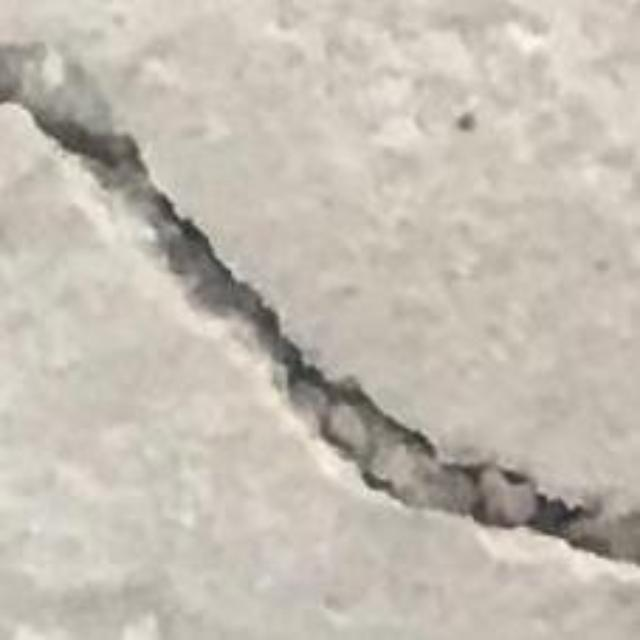crack: (0, 43, 639, 566)
